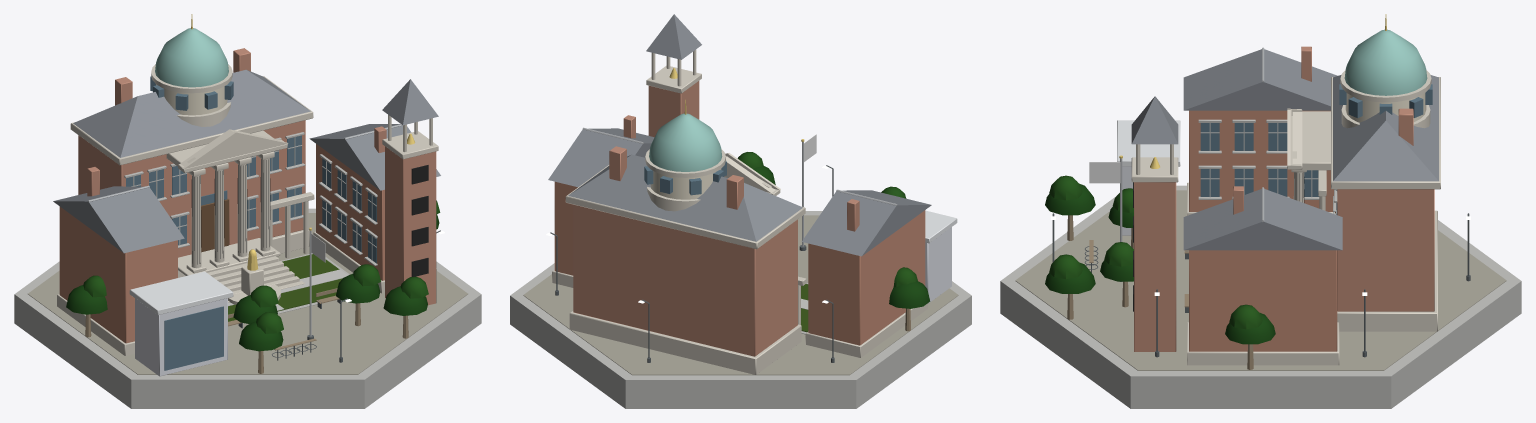
File: university.glb
The picture shows the model from 3 angles, left to right: view 1: azimuth 30°, elevation 25°; view 2: azimuth 150°, elevation 25°; view 3: azimuth 270°, elevation 25°; orthographic projection. The views are drawn at different scales.
Visible parts, largest first — view 1: brick, wall_concrete, stone, roof_slate, pavers, glass, leaf, cladding, copper, dark, wood, turf (+3 smaller); view 2: brick, wall_concrete, roof_slate, stone, pavers, copper, cladding, leaf, plaster, glass, steel_dark, metal; view 3: brick, wall_concrete, roof_slate, pavers, stone, leaf, glass, copper, cladding, wood, steel_dark, plaster (+1 smaller).
Part boxes in pixels (x1,y1,x2,y2): brick: [59, 48, 436, 343]; wall_concrete: [14, 132, 481, 408]; stone: [57, 64, 438, 355]; roof_slate: [53, 69, 440, 253]; pavers: [28, 213, 467, 374]; glass: [126, 76, 376, 370]; leaf: [66, 200, 440, 351]; cladding: [129, 271, 233, 376]; copper: [155, 28, 228, 87]; dark: [191, 159, 428, 276]; wood: [85, 199, 408, 373]; turf: [228, 254, 342, 321]; brick: [554, 81, 925, 356]; wall_concrete: [510, 211, 971, 408]; roof_slate: [548, 14, 931, 256]; stone: [552, 49, 927, 375]; pavers: [523, 215, 958, 375]; copper: [649, 113, 722, 171]; cladding: [925, 210, 957, 303]; leaf: [737, 152, 930, 308]; plaster: [650, 169, 721, 199]; glass: [644, 161, 726, 195]; steel_dark: [550, 165, 834, 362]; metal: [582, 127, 897, 246]; brick: [1134, 46, 1434, 351]; wall_concrete: [1000, 119, 1521, 408]; roof_slate: [1131, 49, 1438, 250]; pavers: [1015, 190, 1506, 370]; stone: [1131, 70, 1440, 365]; leaf: [1045, 175, 1275, 344]; glass: [1200, 84, 1432, 214]; copper: [1344, 29, 1427, 95]; cladding: [1117, 120, 1180, 235]; wood: [1067, 212, 1335, 369]; steel_dark: [1052, 213, 1470, 357]; plaster: [1345, 93, 1426, 122].
Size of the model in its own units: 22.34 by 15.6 by 24.6.
